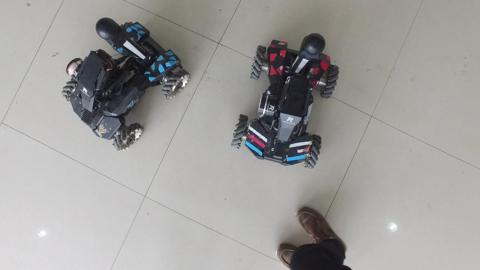chariot: (62, 14, 195, 157), (223, 26, 348, 172)
